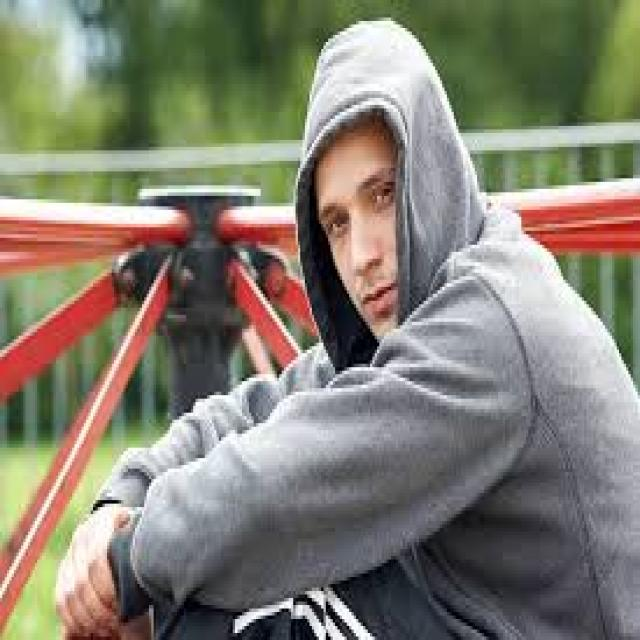4_capucha: (292, 16, 488, 375)
